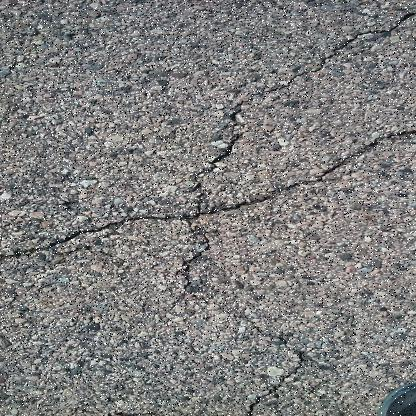Cracks: (0, 123, 416, 263), (185, 9, 415, 186), (234, 312, 330, 416)
